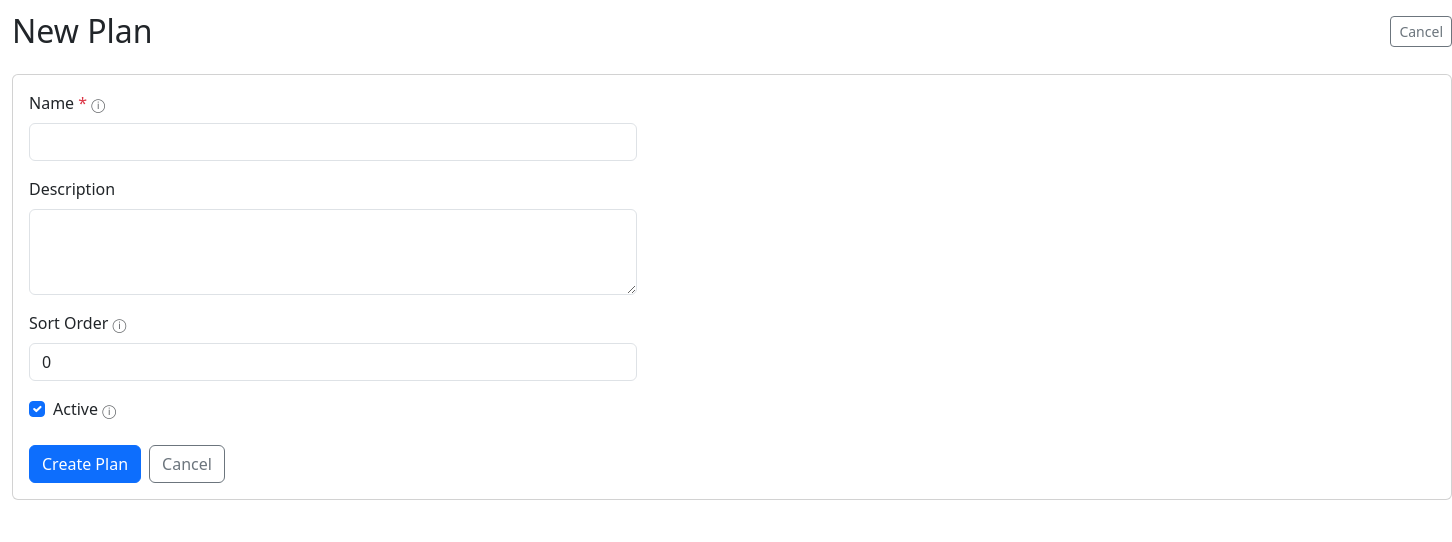
Test case: PlanFormPage › Create mode › shows validation error when name is empty on submit
Click the button "Create Plan" at coordinates (85, 464), box left=29, top=445, right=141, bottom=483
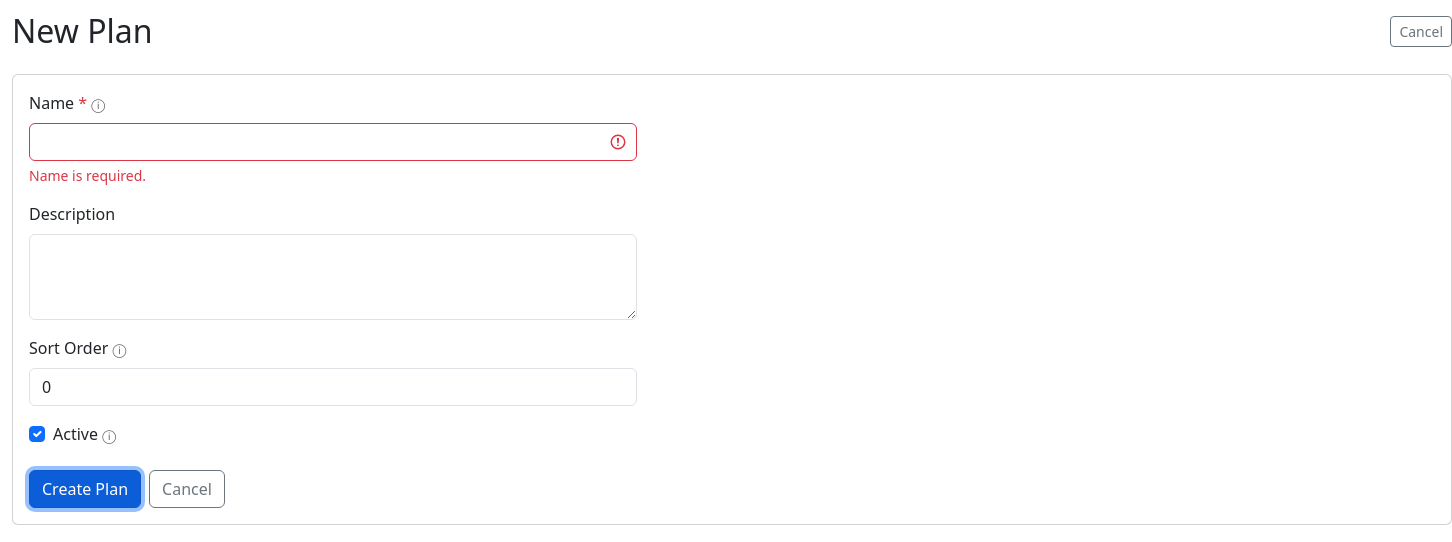
Expected: the text "Name is required." is shown, left=29, top=166, right=146, bottom=185
